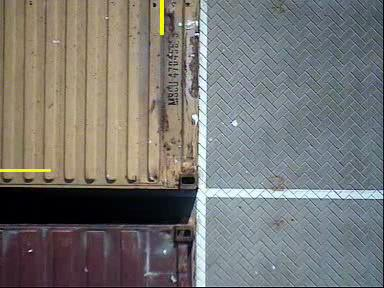groundmarker_2: (201, 160, 234, 217)
